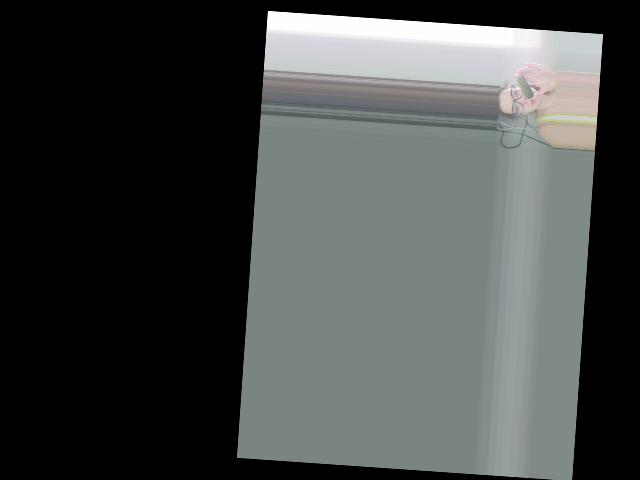cucumber: (514, 76, 534, 99)
